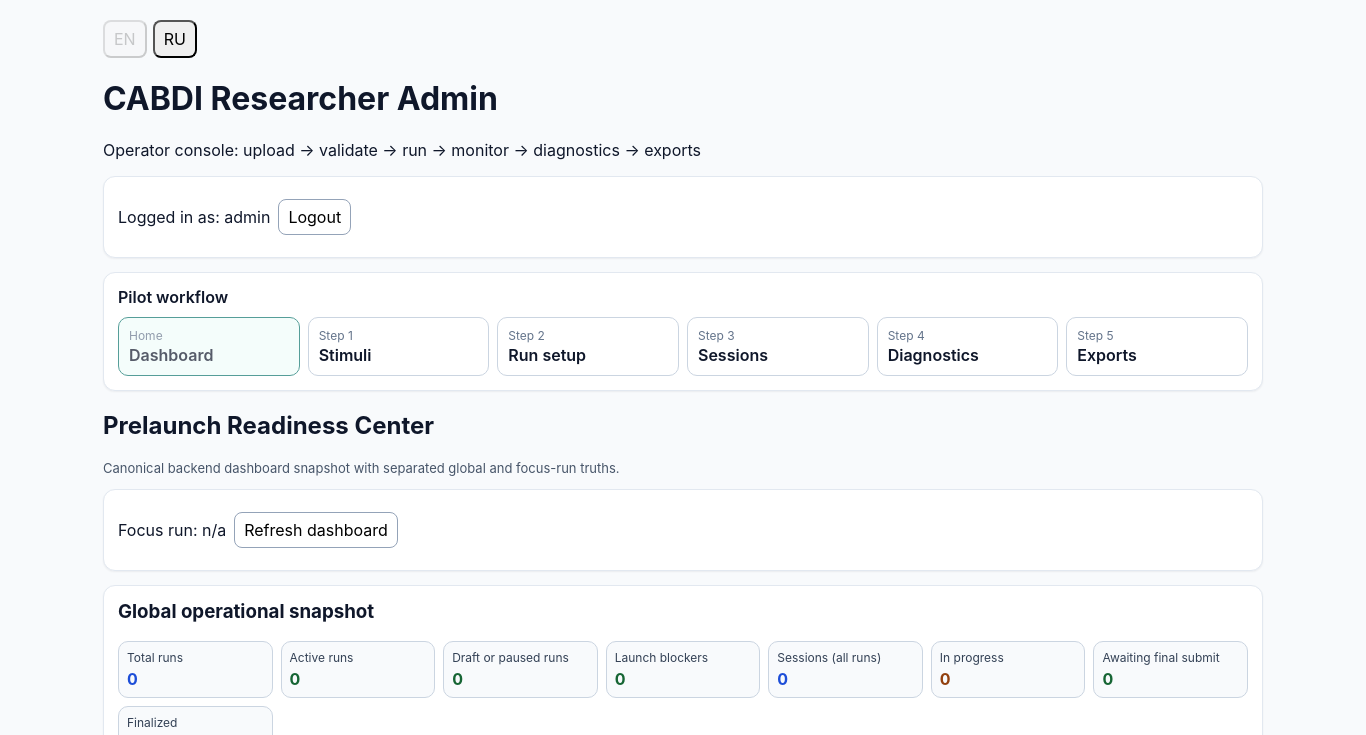
Test case: researcher auth shell › renders only the single main-bank control in single mode and updates authoritative selection
Expected: the text "Logged in as: admin" is shown, top-left (118, 207), bottom-right (270, 227)
Click the button with aria-label "Step 2: Create & Control Runs". click: (588, 346)
box: top-left (497, 317), bottom-right (679, 376)
(page scrolled)
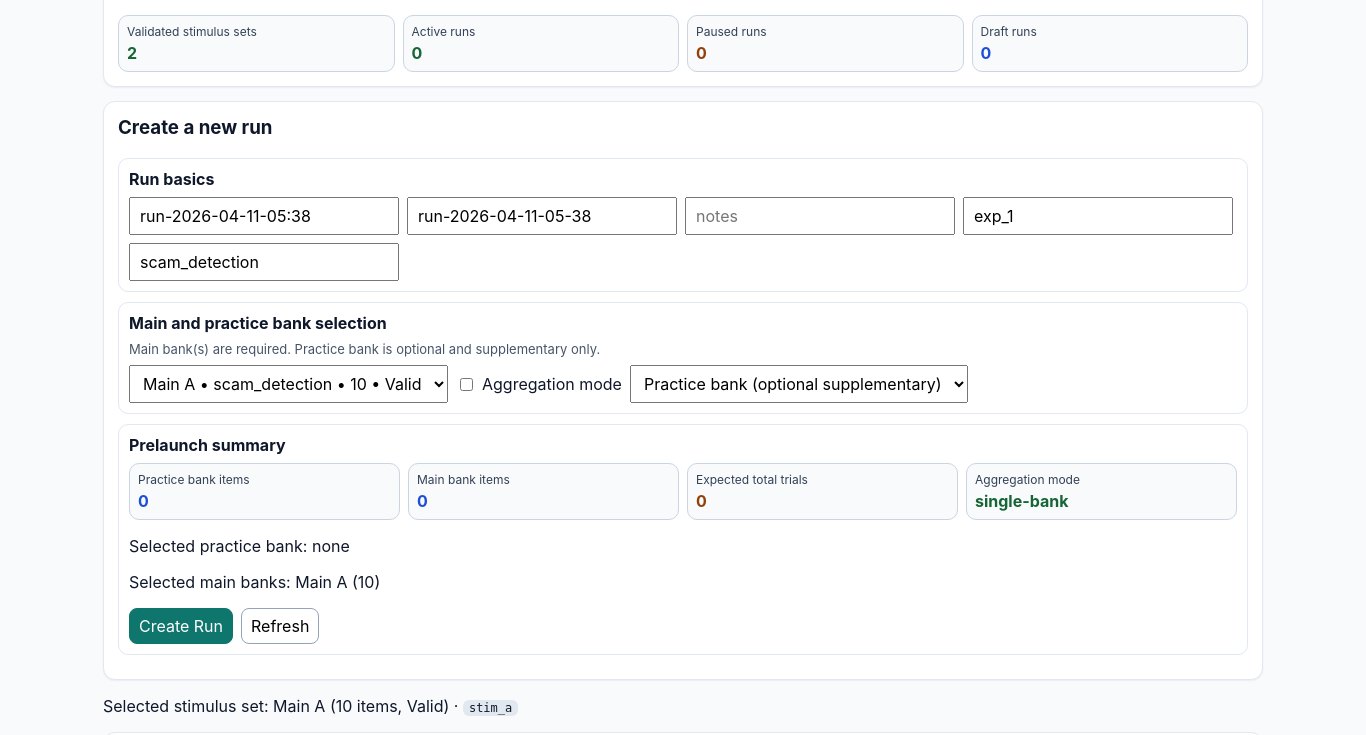
Result: the dropdown named "Main bank" is shown
Select "Main B • claim_review • 8 • Valid" in the dropdown named "Main bank". click: (288, 384)
box: top-left (129, 365), bottom-right (448, 403)
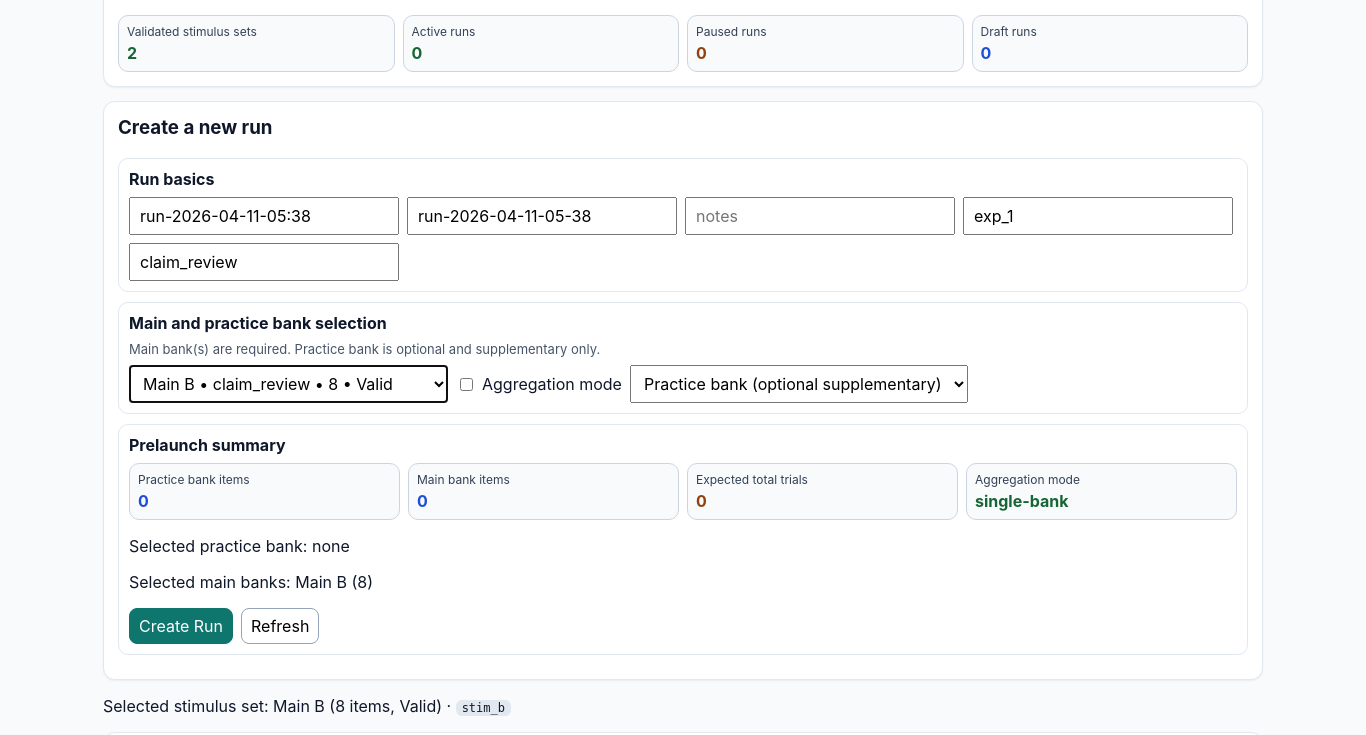
Result: the field named "task family" holds "claim_review" at top-left (129, 243), bottom-right (399, 281)
